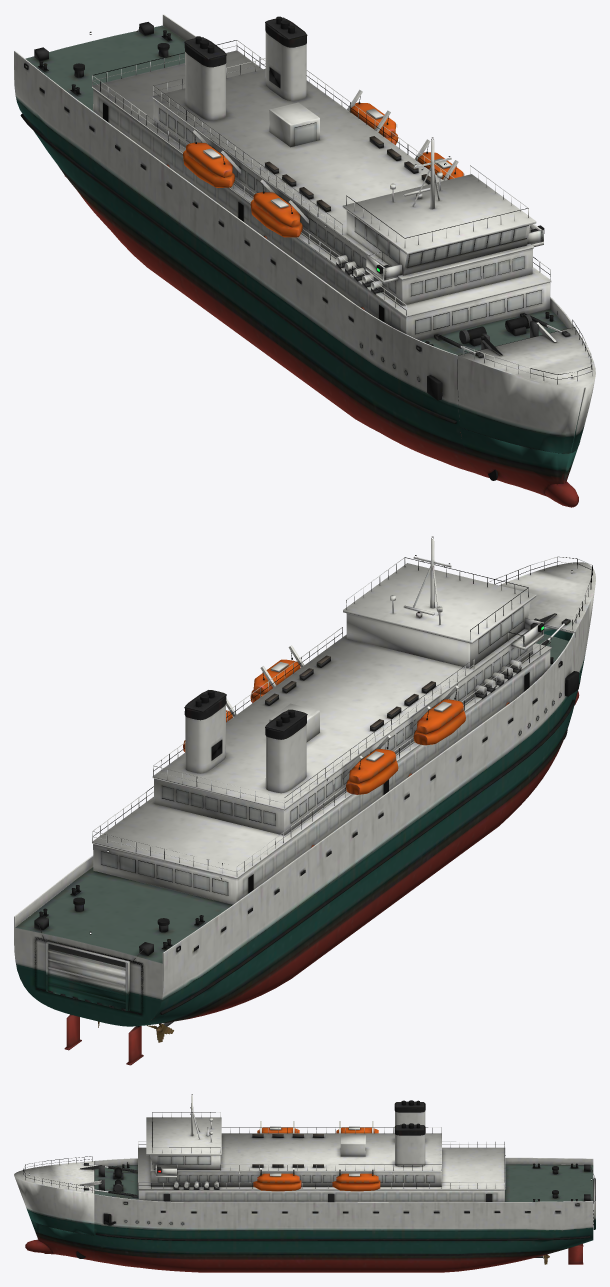
Rendered from tevy-ro-ro-lod1.glb.
3 renders of one model, top to bottom at view 1: azimuth 30°, elevation 25°; view 2: azimuth 150°, elevation 25°; view 3: azimuth 270°, elevation 25°, orthographic. The views are drawn at different scales.
Parts seen in each view (by area): view 1: body, bow_visor_mesh, fittings; view 2: body, fittings, bow_visor_mesh, stern_ramp_mesh; view 3: body, bow_visor_mesh, fittings, rudder_L_mesh.
Boxes of the visible parts, x1=… form: body: x1=14, y1=14, x2=578, y2=507; bow_visor_mesh: x1=457, y1=319, x2=595, y2=453; fittings: x1=90, y1=33, x2=541, y2=380; body: x1=14, y1=536, x2=579, y2=1026; fittings: x1=90, y1=537, x2=560, y2=933; bow_visor_mesh: x1=488, y1=556, x2=595, y2=699; stern_ramp_mesh: x1=46, y1=941, x2=129, y2=1011; body: x1=25, y1=1094, x2=594, y2=1272; bow_visor_mesh: x1=14, y1=1156, x2=102, y2=1235; fittings: x1=125, y1=1095, x2=591, y2=1224; rudder_L_mesh: x1=568, y1=1245, x2=583, y2=1264.
Size of the model in its own units: 20.1 by 28.22 by 92.1.
7 materials, 1 textured.
